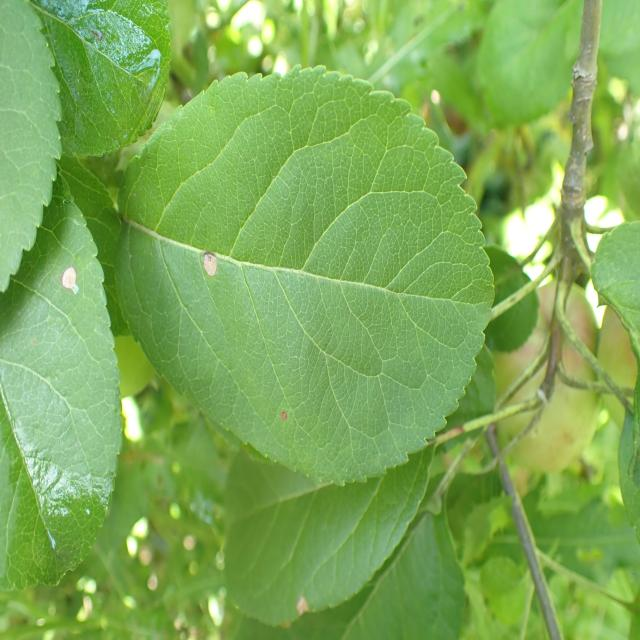Black Rot: (192, 228, 246, 304), (49, 260, 92, 314), (280, 592, 322, 628), (266, 398, 294, 431)
